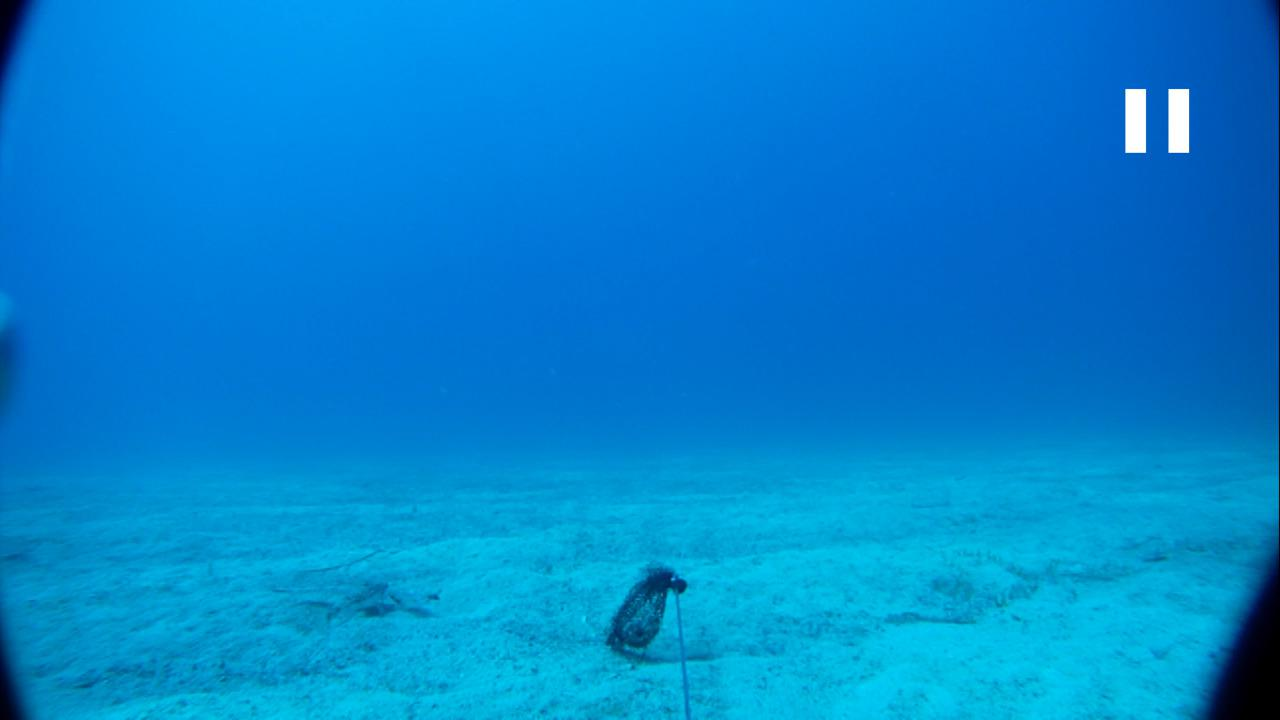dactylopterus: (291, 570, 438, 628)
